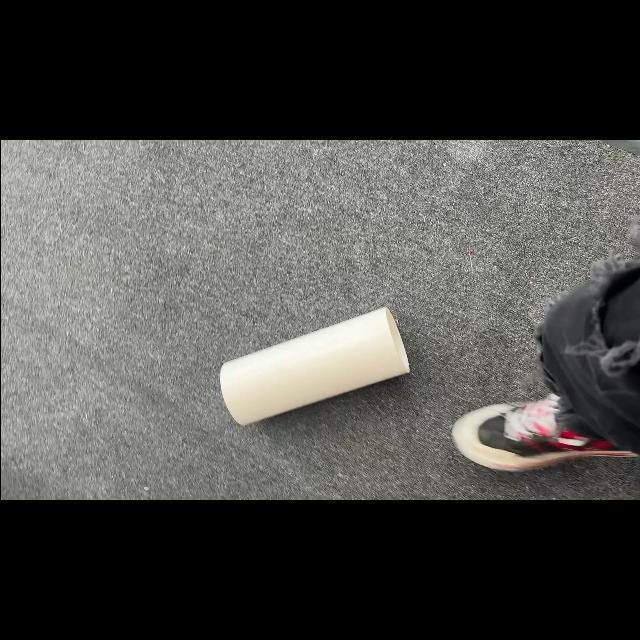CORAL: (217, 306, 409, 426)
